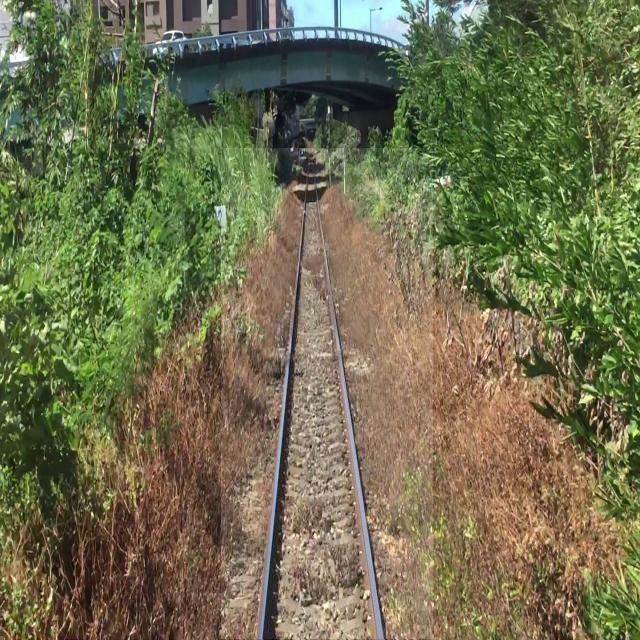rail: (223, 149, 434, 640)
